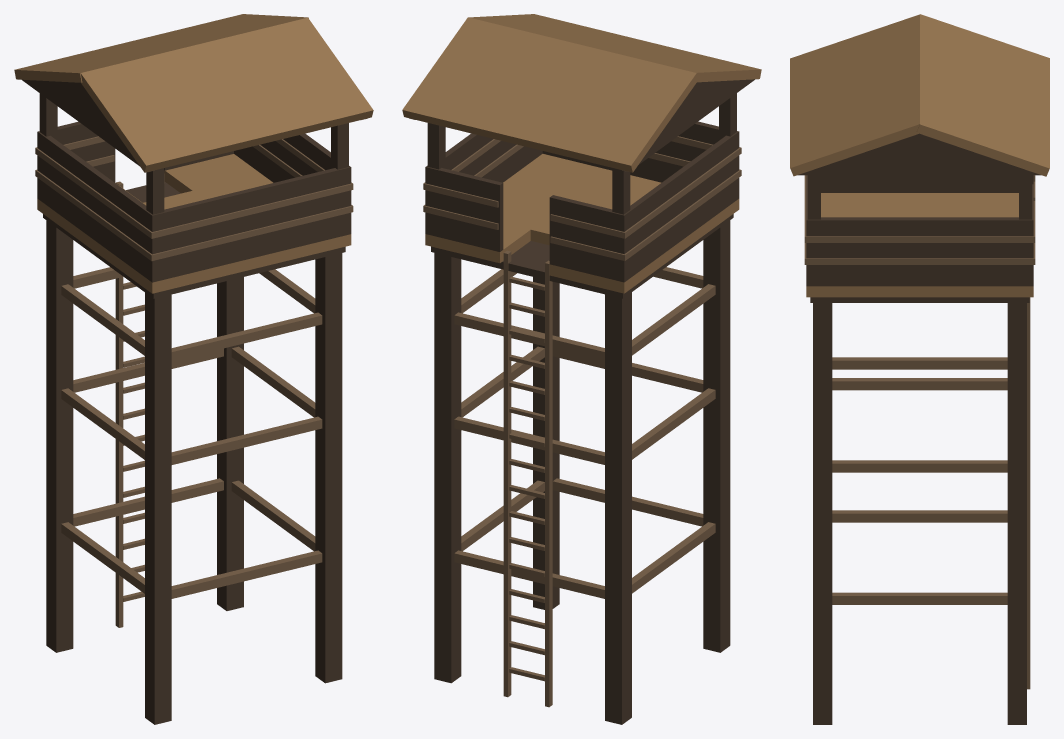
The model's file is camp_tower_wood.glb.
3 views of the same model, side by side, from view 1: azimuth 30°, elevation 25°; view 2: azimuth 150°, elevation 25°; view 3: azimuth 270°, elevation 25° (orthographic).
Visible parts, largest first — view 1: camp_tower_wood; view 2: camp_tower_wood; view 3: camp_tower_wood.
Part boxes in pixels (x1,y1,x2,y2): camp_tower_wood: (14,14,373,724); camp_tower_wood: (402,14,761,724); camp_tower_wood: (790,14,1049,724).
Size of what is drawn, in the model's own units: 3.22 by 8.3 by 3.2.
1 material, 1 textured.
